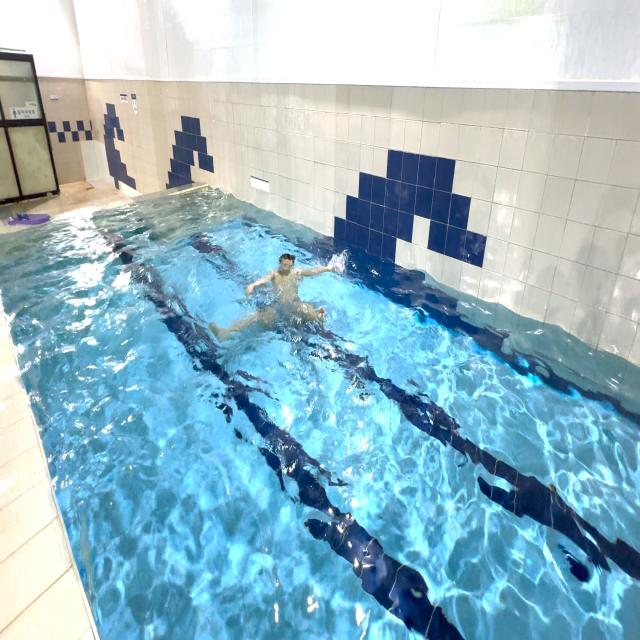Drowning: (208, 238, 341, 352)
